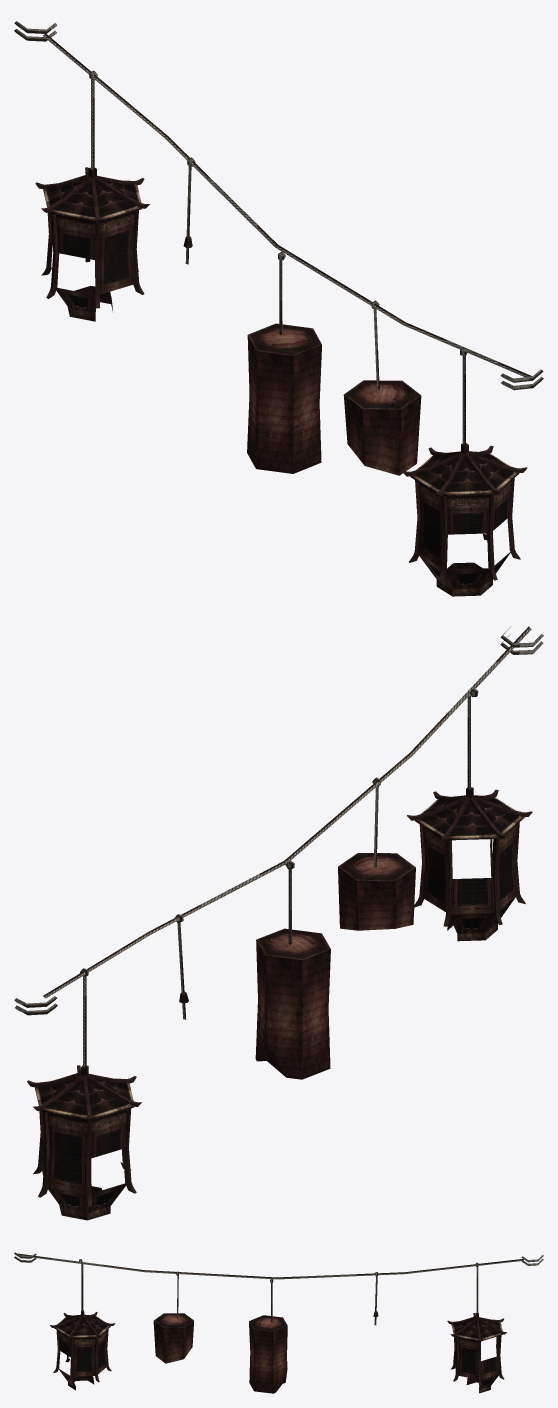
File: TW2_9_ADDONS_12_10_2-transformed.glb
3 renders of one model, top to bottom at view 1: azimuth 30°, elevation 25°; view 2: azimuth 150°, elevation 25°; view 3: azimuth 270°, elevation 25°, orthographic. The views are drawn at different scales.
Parts seen in each view (by area): view 1: default; view 2: default; view 3: default.
Boxes of the visible parts, x1=… form: default: x1=14, y1=21, x2=543, y2=596; default: x1=14, y1=626, x2=543, y2=1220; default: x1=14, y1=1252, x2=543, y2=1393.
Size of the model in its own units: 0.586 by 1.32 by 4.72.
Materials: 1 (1 with a texture image).
